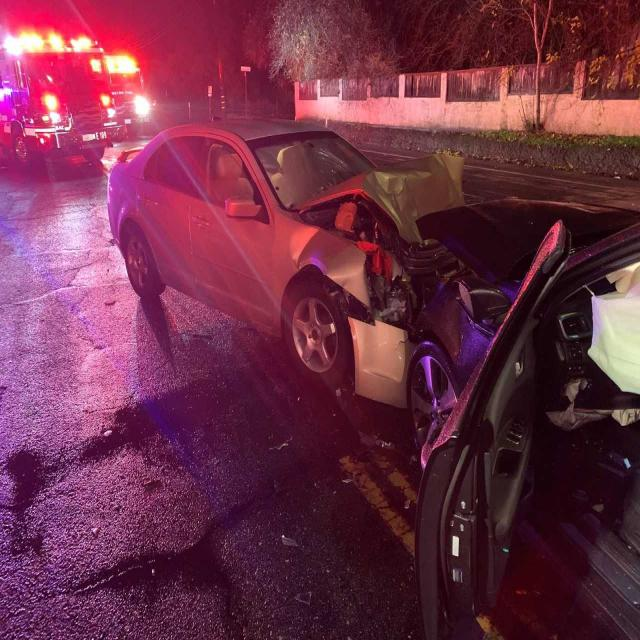accident: (178, 106, 585, 460)
